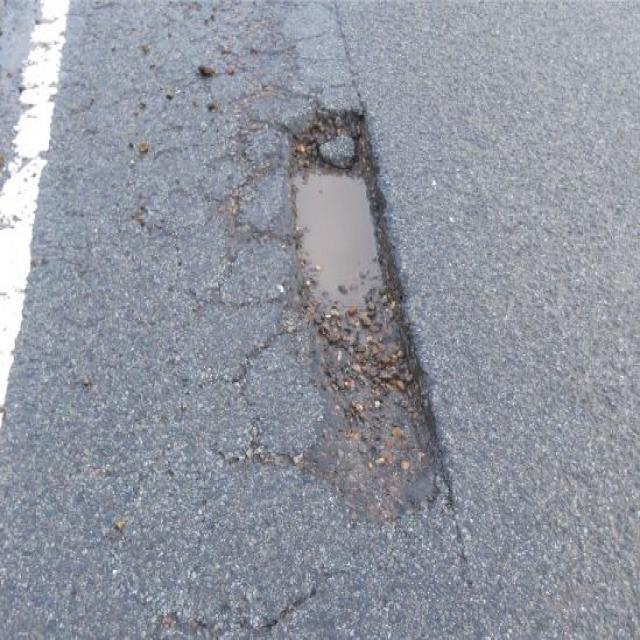pothole: (261, 98, 452, 530)
